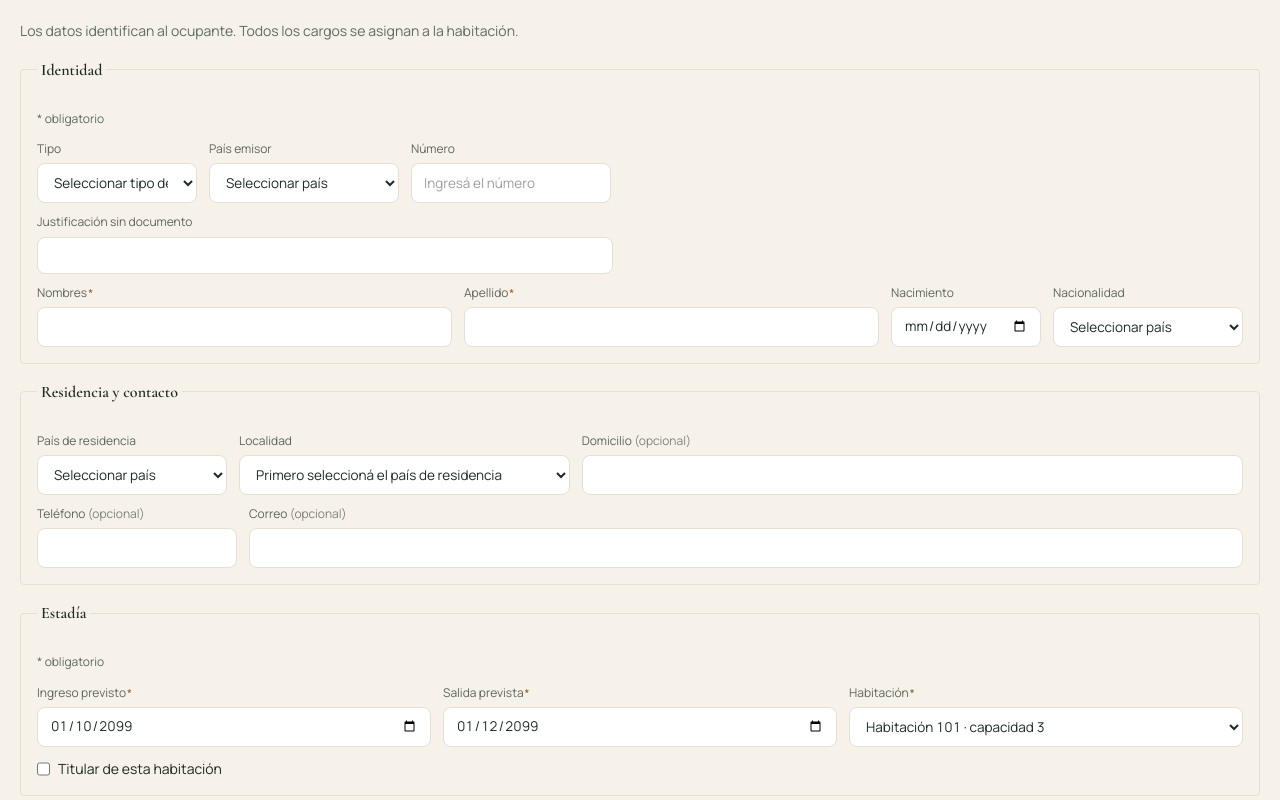
PersonaFormulario — identificación por documento › documento existente: trae todos los datos de la ficha, bloquea el nombre y muestra 'Huésped registrado'
Select "DNI" in the dropdown labelled "Tipo" at {"x": 117, "y": 183}, box [37, 163, 197, 203]
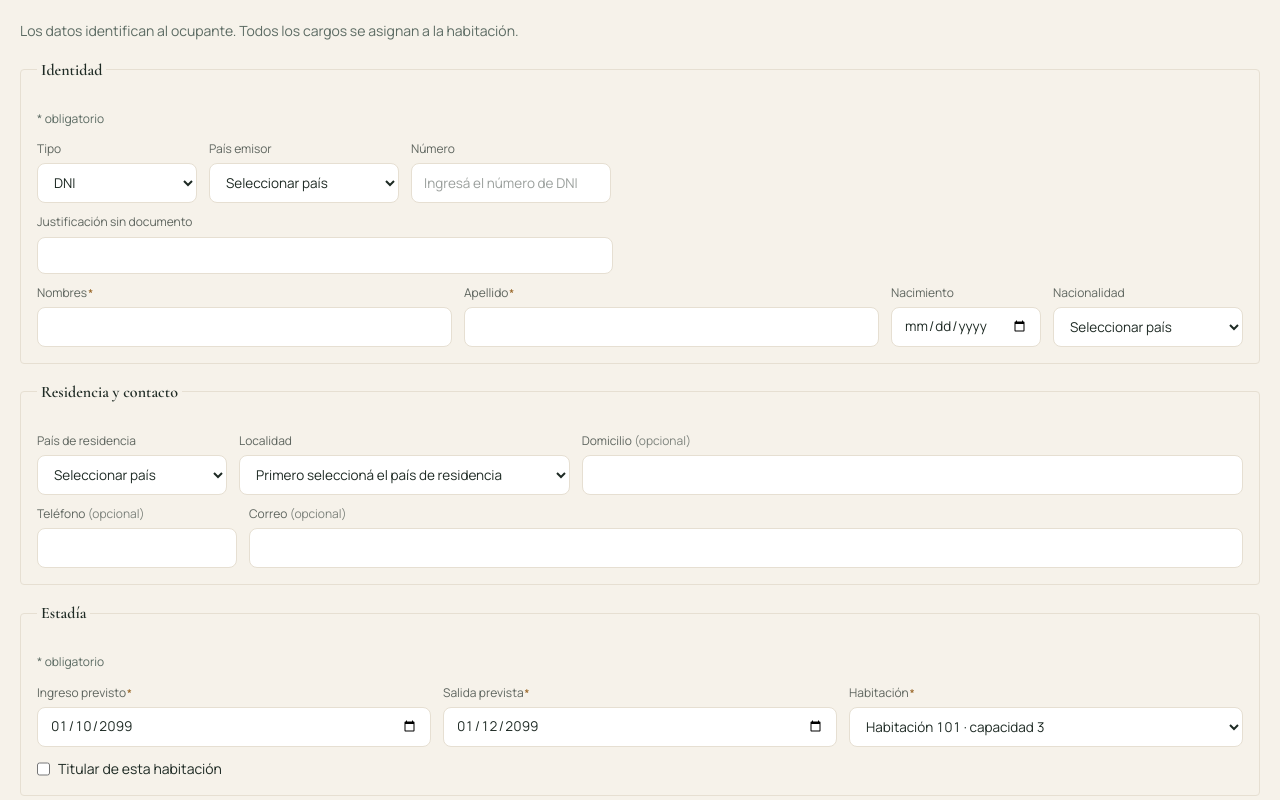
Select "Argentina" in the dropdown labelled "País emisor" at {"x": 304, "y": 183}, box [209, 163, 399, 203]
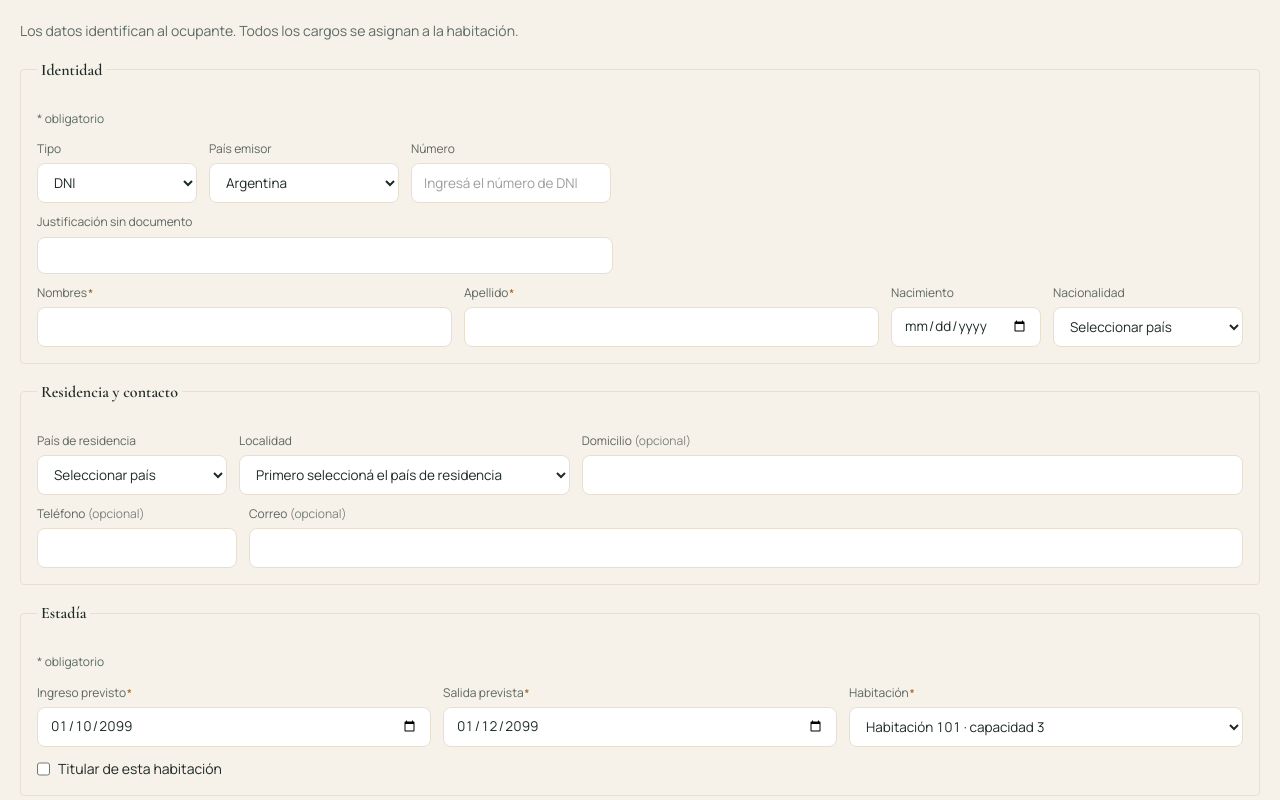
Type "45112902" into the field named "número de DNI" at {"x": 511, "y": 183}, box [411, 163, 611, 203]
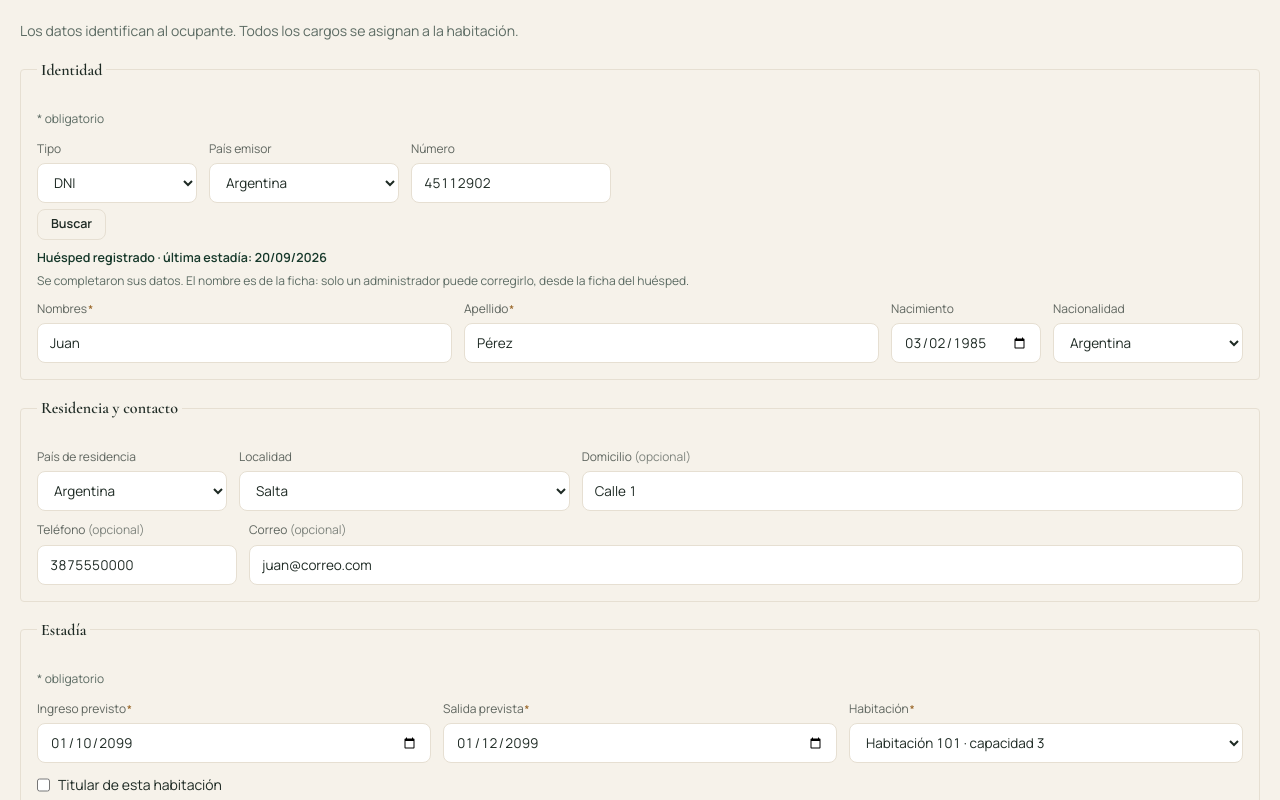
Now the field named "Nombres *" holds "Juan", box [37, 323, 452, 363]
Now the field named "Apellido *" holds "Pérez", box [464, 323, 879, 363]
Now the field named "Nombres *" is disabled, box [37, 323, 452, 363]
